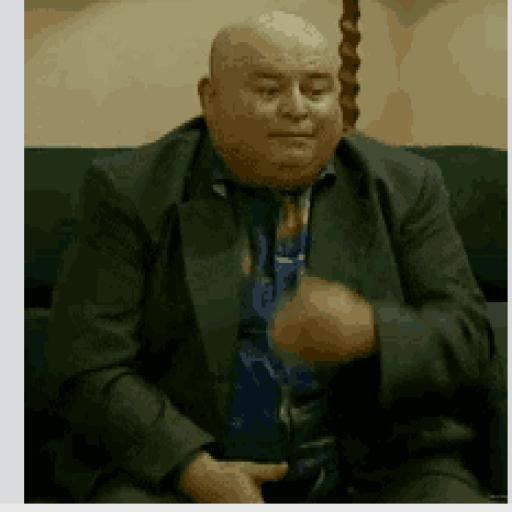sboui: (200, 14, 341, 185)
